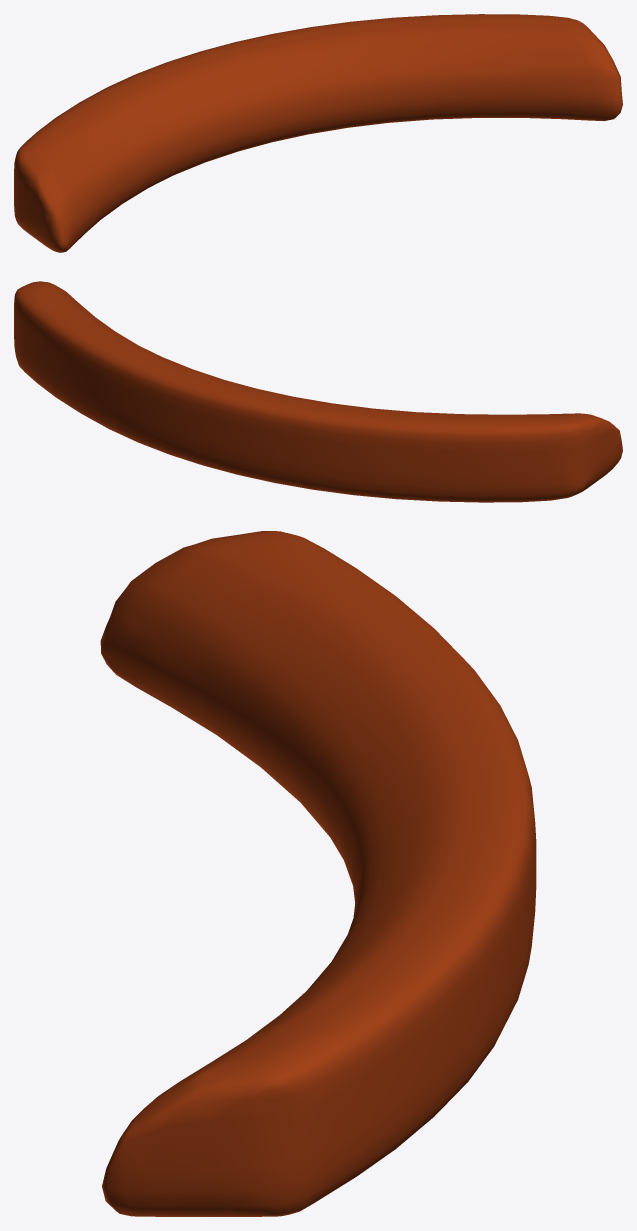
File: rail.fbx
The picture shows the model from 3 angles, top to bottom: view 1: azimuth 30°, elevation 25°; view 2: azimuth 150°, elevation 25°; view 3: azimuth 270°, elevation 25°; orthographic projection. The views are drawn at different scales.
Parts seen in each view (by area): view 1: Box001; view 2: Box001; view 3: Box001.
Part boxes in pixels (x1,y1,x2,y2): Box001: (14,14,622,252); Box001: (14,281,622,502); Box001: (100,531,536,1216).
Size of the model in its own units: 140 by 18.57 by 46.11.
